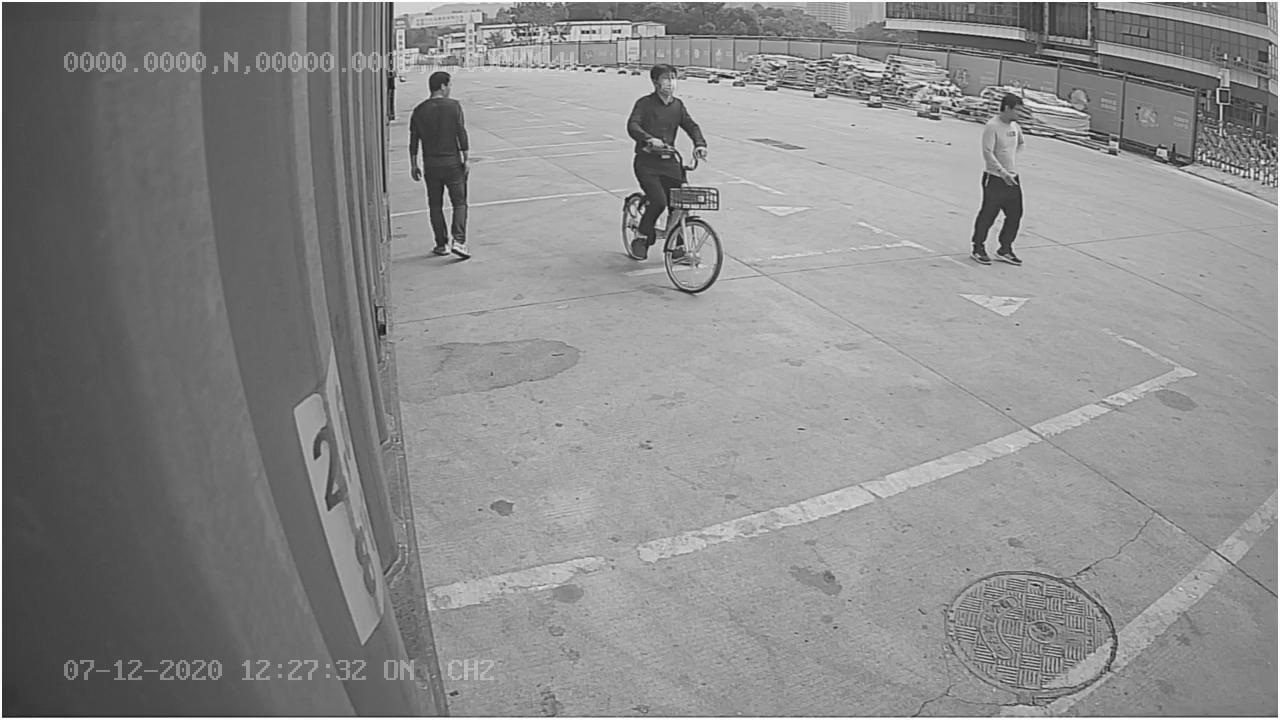person: (405, 67, 477, 264)
